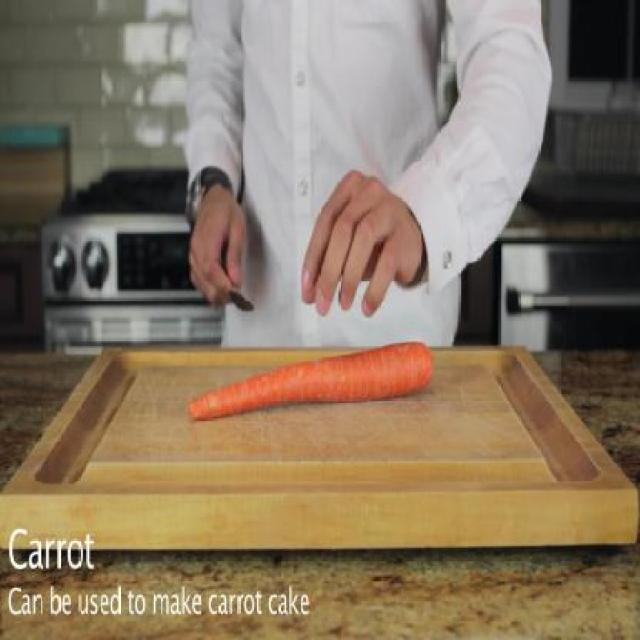carrot: (185, 334, 442, 423)
